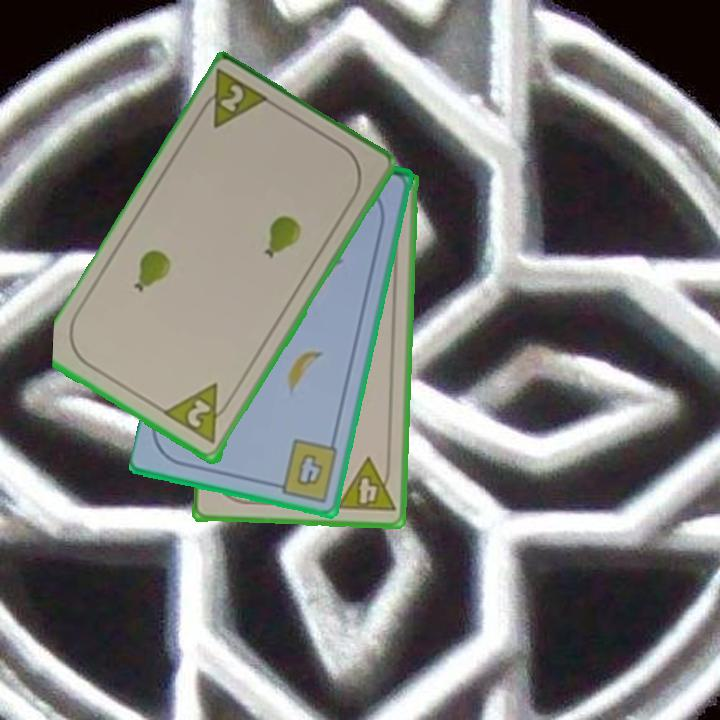2p: (193, 66, 275, 133), (183, 396, 214, 431)
4b: (268, 436, 342, 505)
4p: (332, 455, 398, 516)
